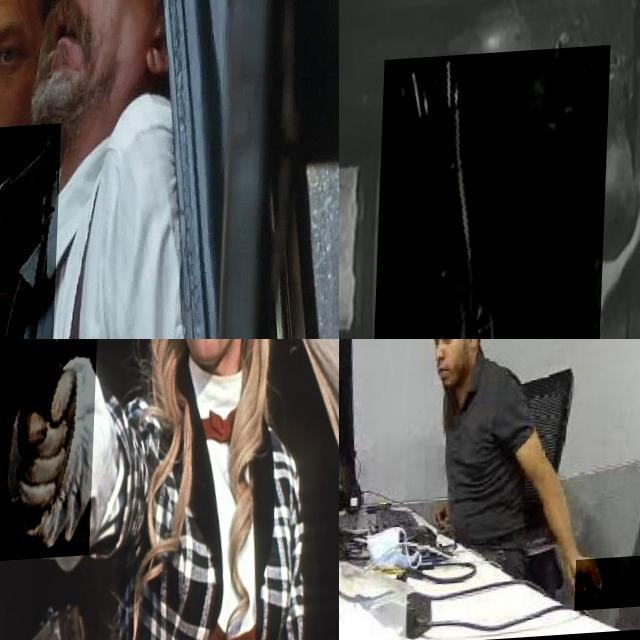-: (578, 560, 640, 615)
gun-knife-thesis - v11 Yolov5 augmented: (370, 49, 611, 339), (0, 339, 101, 566), (0, 127, 63, 339)
